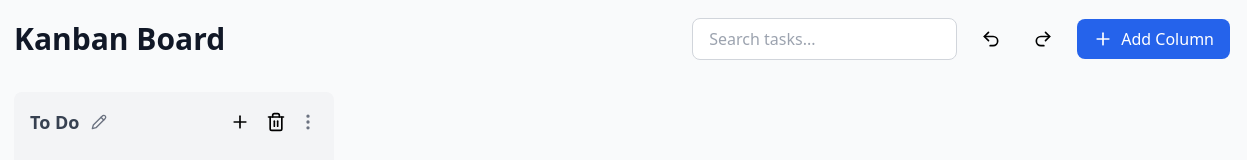
App Component › shows column input form when add column is clicked
Click the button "Add Column": click(1154, 39) [1077, 19, 1230, 59]
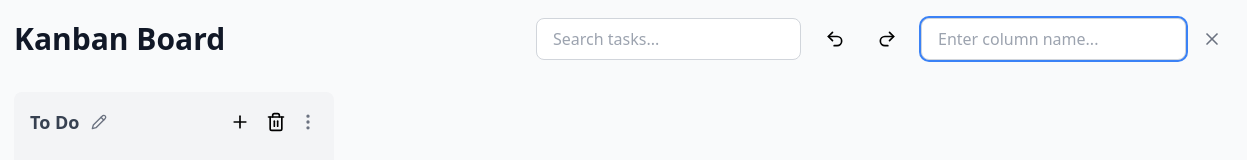
expect the field with placeholder "Enter column name..." is shown: met, box [921, 18, 1186, 60]
